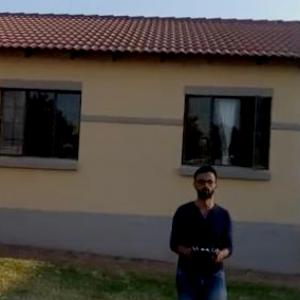follow: (164, 163, 238, 299)
